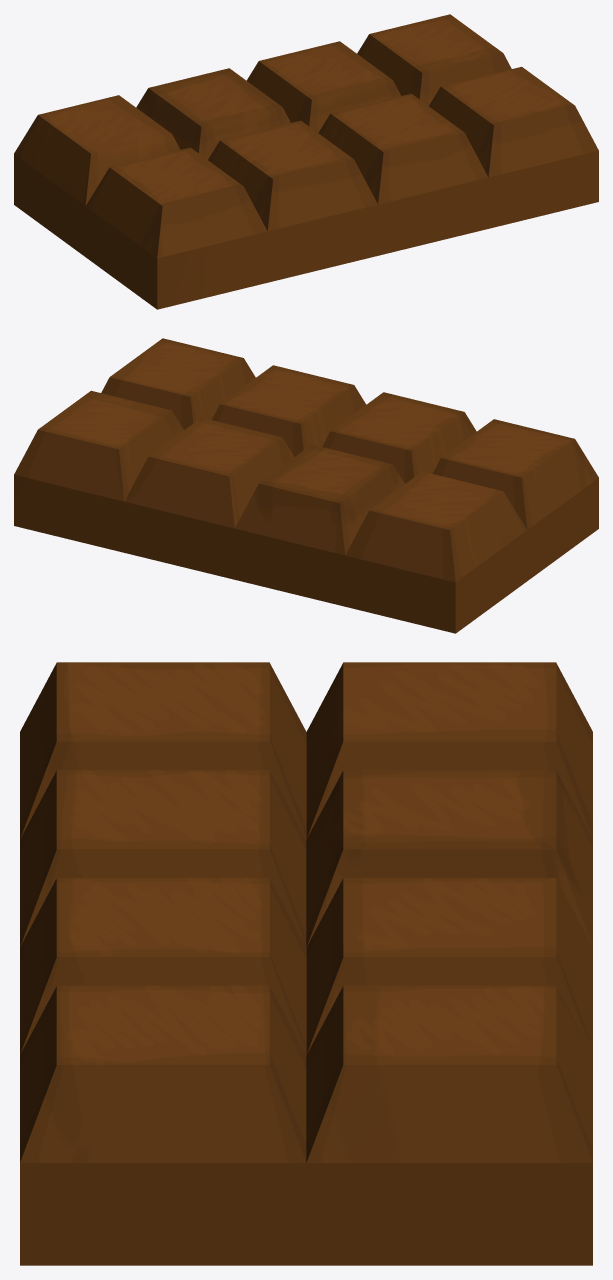
The model's file is chocolate.fbx.
3 renders of one model, top to bottom at view 1: azimuth 30°, elevation 25°; view 2: azimuth 150°, elevation 25°; view 3: azimuth 270°, elevation 25°, orthographic. The views are drawn at different scales.
Visible parts, largest first — view 1: chocolate; view 2: chocolate; view 3: chocolate.
Boxes of the visible parts, x1,y1,x2,y2 form: chocolate: [14, 14, 598, 309]; chocolate: [14, 338, 598, 633]; chocolate: [20, 662, 592, 1265].
Bounding box in the file's own units: 56.04 × 11.29 × 31.48.
